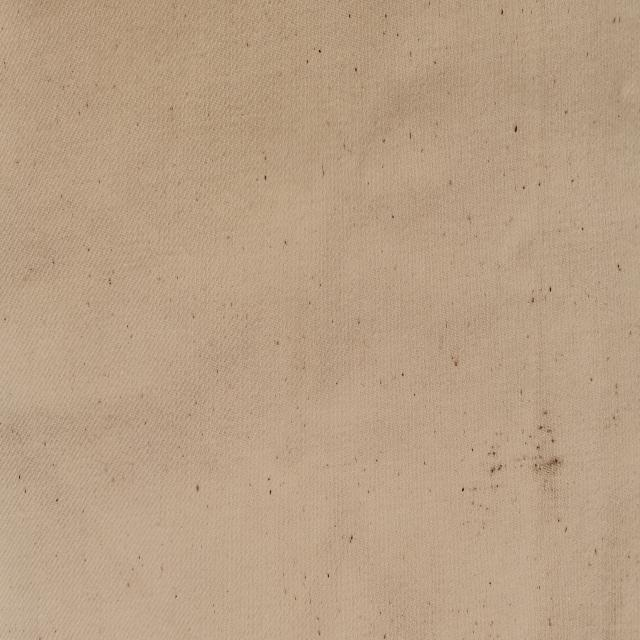taaaches: (528, 406, 566, 498), (475, 431, 507, 500)
